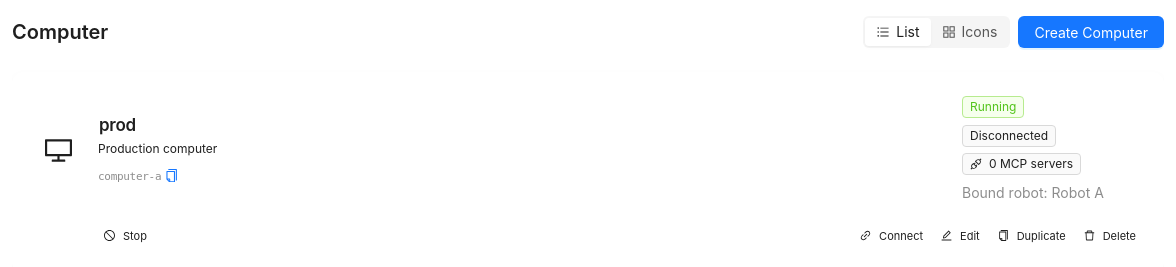
Scenario: Computer › keeps connection action technical errors out of the ordinary Computer UI
Click the button "Connect": (892, 236) [854, 222, 929, 250]
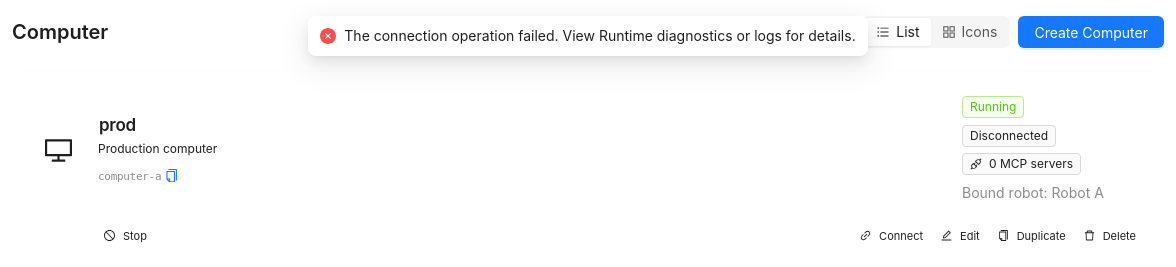
Now the text "The connection operation failed. View Runtime diagnostics or logs for details." is shown, box [344, 25, 856, 47]
